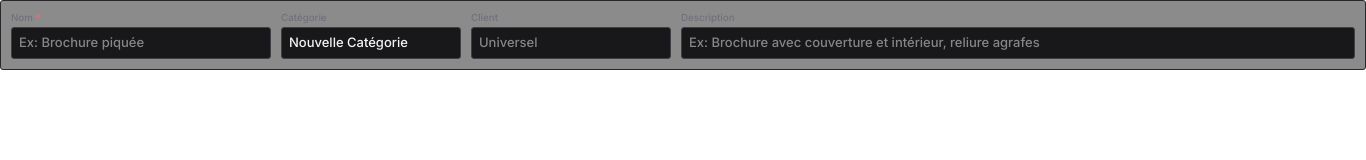
JcfTemplateHeaderForm › session learning › adds new category to suggestions on blur
Focus again to open dropdown
Focus the field labelled "Catégorie": (371, 43) [281,27,461,58]
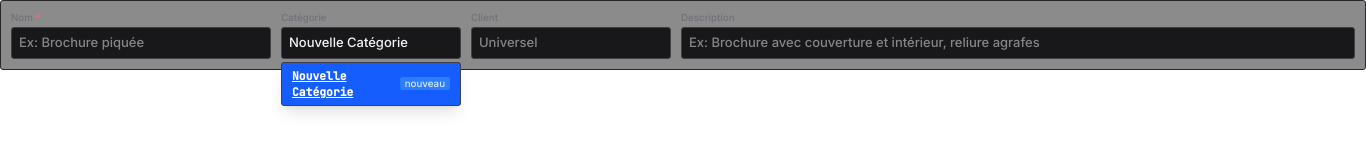
Result: the text "Nouvelle Catégorie" is shown at [292,68,353,99]
